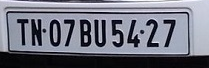0: (49, 19, 62, 47)
2: (145, 19, 160, 49)
4: (126, 18, 140, 48)
5: (111, 19, 124, 48)
7: (162, 19, 177, 48), (63, 19, 76, 48)
B: (79, 19, 91, 47)
N: (30, 18, 43, 46)
T: (16, 18, 30, 47)
U: (93, 19, 107, 48)
